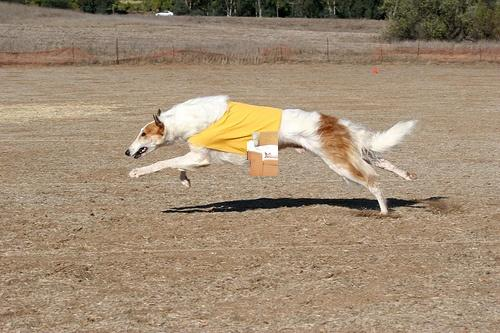tampered: (248, 132, 278, 176)
